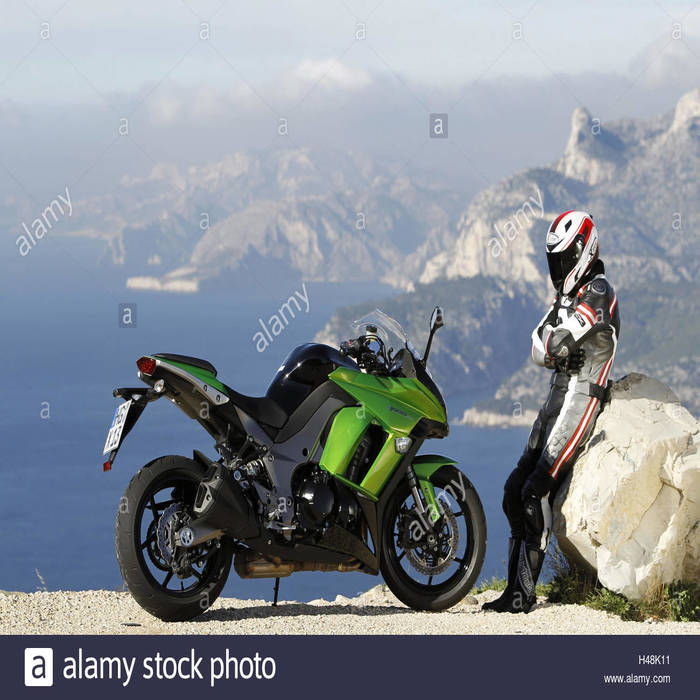h: (539, 208, 602, 302)
